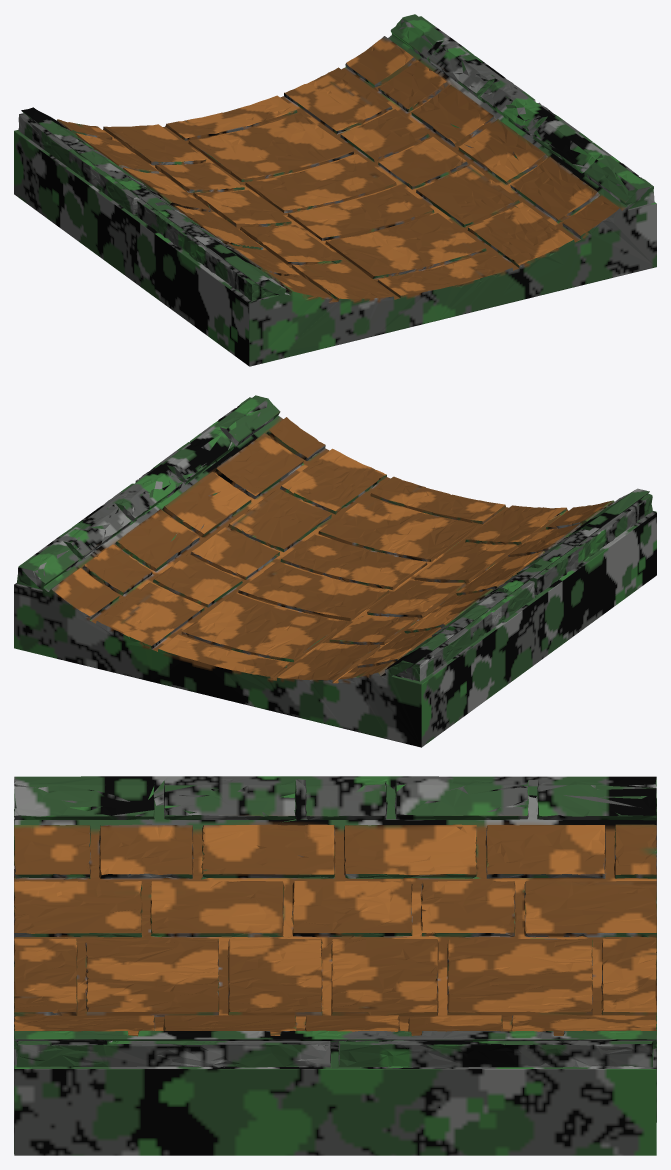
The model's file is sluice_straight.fbx.
3 renders of one model, top to bottom at view 1: azimuth 30°, elevation 25°; view 2: azimuth 150°, elevation 25°; view 3: azimuth 270°, elevation 25°, orthographic. The views are drawn at different scales.
Parts seen in each view (by area): view 1: Sewer Sluice Straight; view 2: Sewer Sluice Straight; view 3: Sewer Sluice Straight.
Boxes of the visible parts, bbox=[...] form: Sewer Sluice Straight: bbox=[14, 14, 656, 366]; Sewer Sluice Straight: bbox=[14, 395, 656, 747]; Sewer Sluice Straight: bbox=[14, 776, 656, 1155].
Size of the model in its own units: 4990 by 970 by 4990.
1 material, 1 textured.
